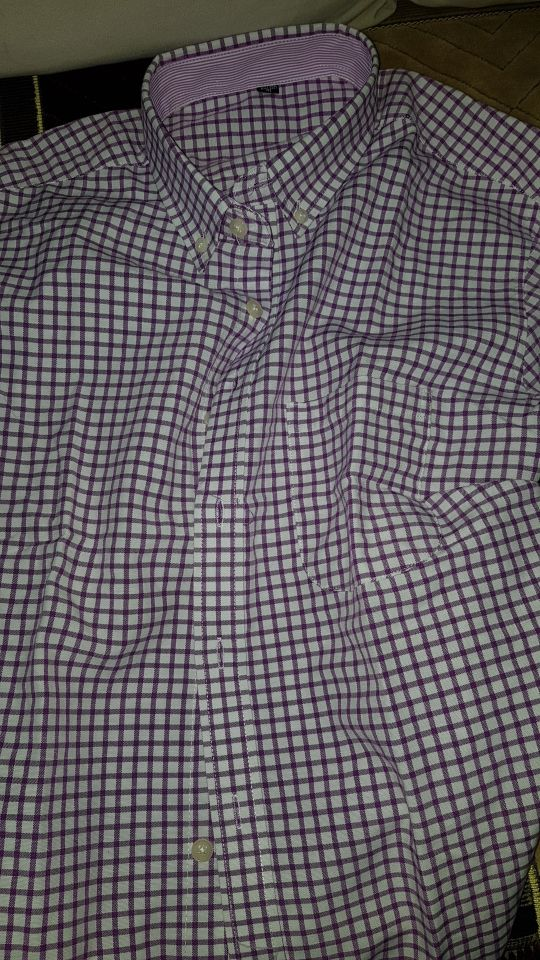shirts: (3, 24, 540, 859)
